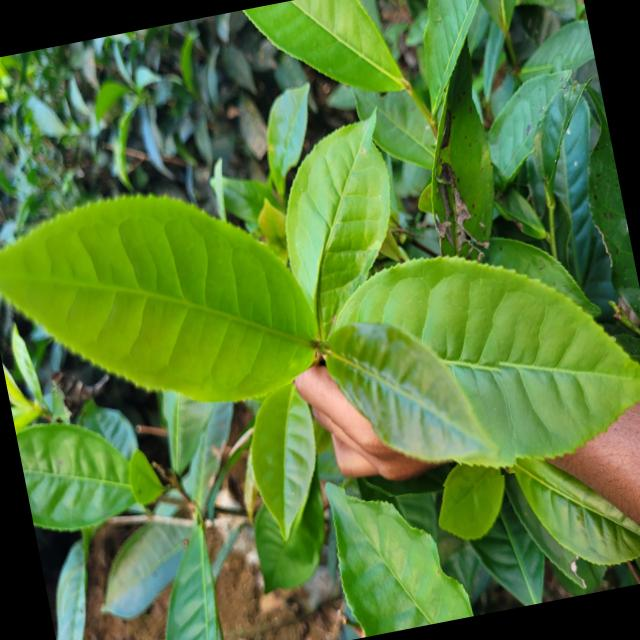Catagory A(1-2 days): (312, 286, 522, 504)
